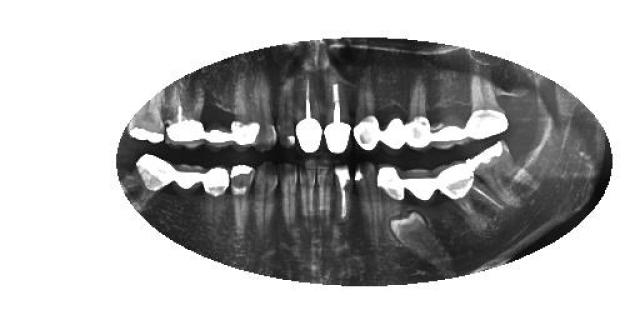Fillings: (470, 140, 538, 205), (122, 154, 176, 212), (466, 66, 509, 138), (228, 74, 262, 151), (355, 76, 383, 152), (129, 90, 165, 142), (408, 75, 432, 150), (231, 164, 255, 238), (205, 169, 231, 225), (429, 114, 469, 148), (377, 164, 402, 218), (405, 170, 439, 205), (380, 112, 408, 152), (204, 120, 235, 150), (175, 164, 203, 196)
Implant: (434, 160, 500, 229), (292, 70, 324, 152), (166, 84, 204, 150), (322, 72, 352, 152), (334, 159, 351, 226)
